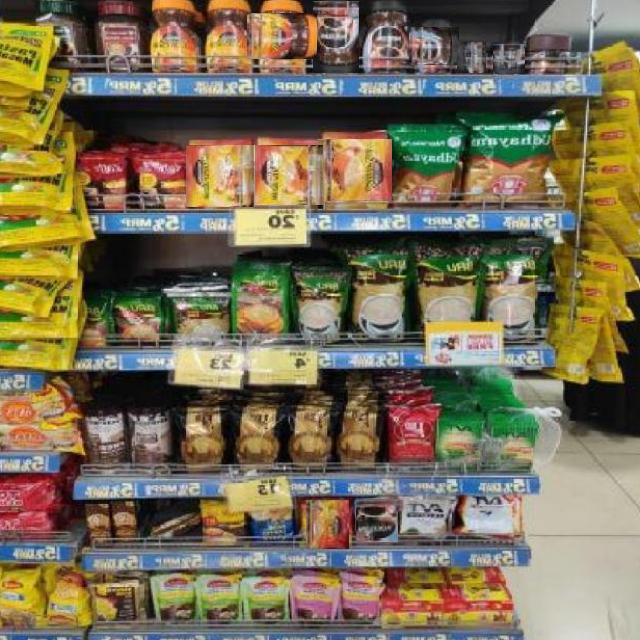Coffee: (318, 140, 392, 201), (187, 144, 255, 207), (256, 145, 323, 205), (312, 0, 359, 73), (152, 0, 200, 71), (363, 0, 409, 74), (207, 1, 252, 72), (247, 14, 317, 59), (306, 501, 349, 549), (406, 27, 459, 65), (355, 499, 398, 542), (492, 44, 525, 74), (457, 41, 486, 73)
